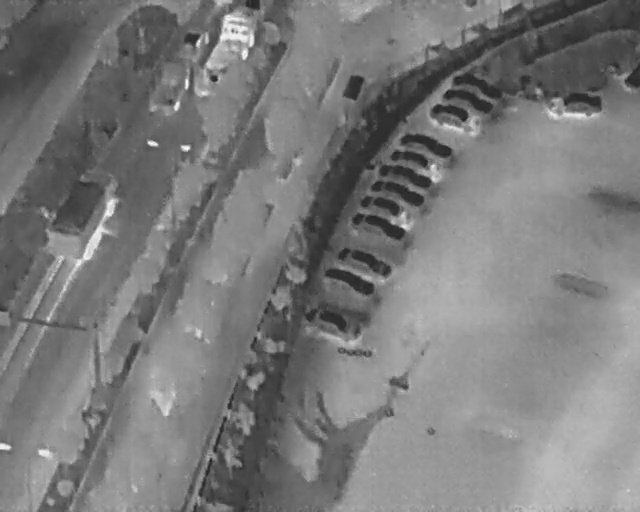Car: (300, 296, 369, 346), (316, 258, 381, 304), (334, 239, 399, 284), (348, 204, 412, 249), (373, 155, 439, 198), (426, 96, 488, 140), (367, 171, 430, 214), (396, 125, 457, 164), (449, 66, 508, 105), (388, 142, 446, 180), (439, 81, 497, 119), (359, 186, 413, 226), (172, 17, 214, 62), (543, 92, 602, 118)
OtherVehicle: (38, 161, 123, 266), (195, 0, 265, 101), (140, 49, 197, 119)
